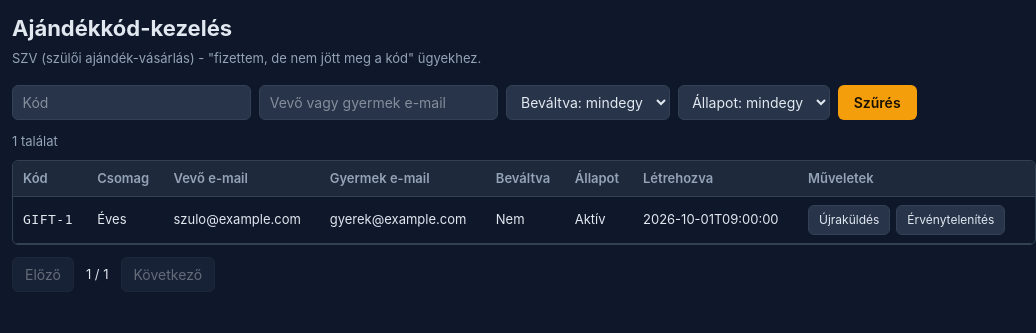
Scenario: GiftCouponsComponent › újraküldés: csak a vevőnek / senkinek / hiba esetén a megfelelő sor-üzenet
The image size is (1036, 333).
Click the button "Újraküldés" at (849, 220), box top-left (808, 205), bottom-right (890, 235)
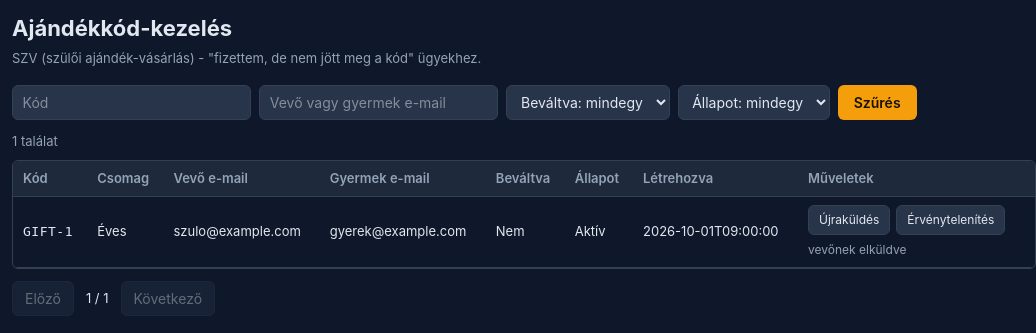
Now the text with class "row-message" reads "vevőnek elküldve", box top-left (808, 242), bottom-right (906, 257)
Click the button "Újraküldés" at (849, 220), box top-left (808, 205), bottom-right (890, 235)
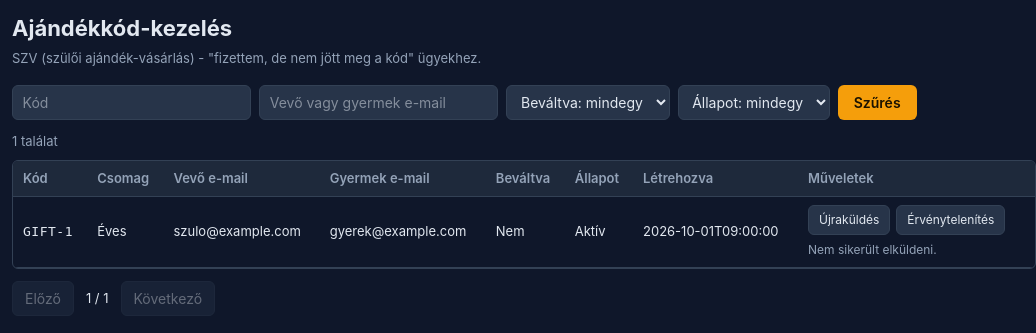
Now the text with class "row-message" reads "Nem sikerült elküldeni.", box top-left (808, 242), bottom-right (937, 257)
Click the button "Újraküldés" at (849, 220), box top-left (808, 205), bottom-right (890, 235)
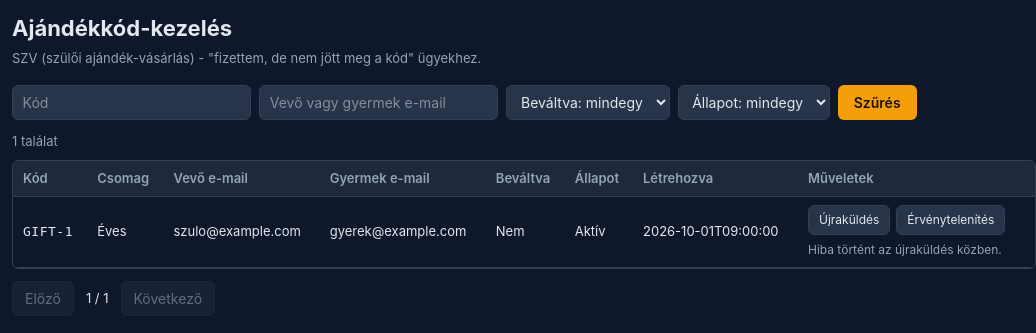
Now the text with class "row-message" reads "Hiba történt az újraküldés közben.", box top-left (808, 242), bottom-right (1002, 257)
